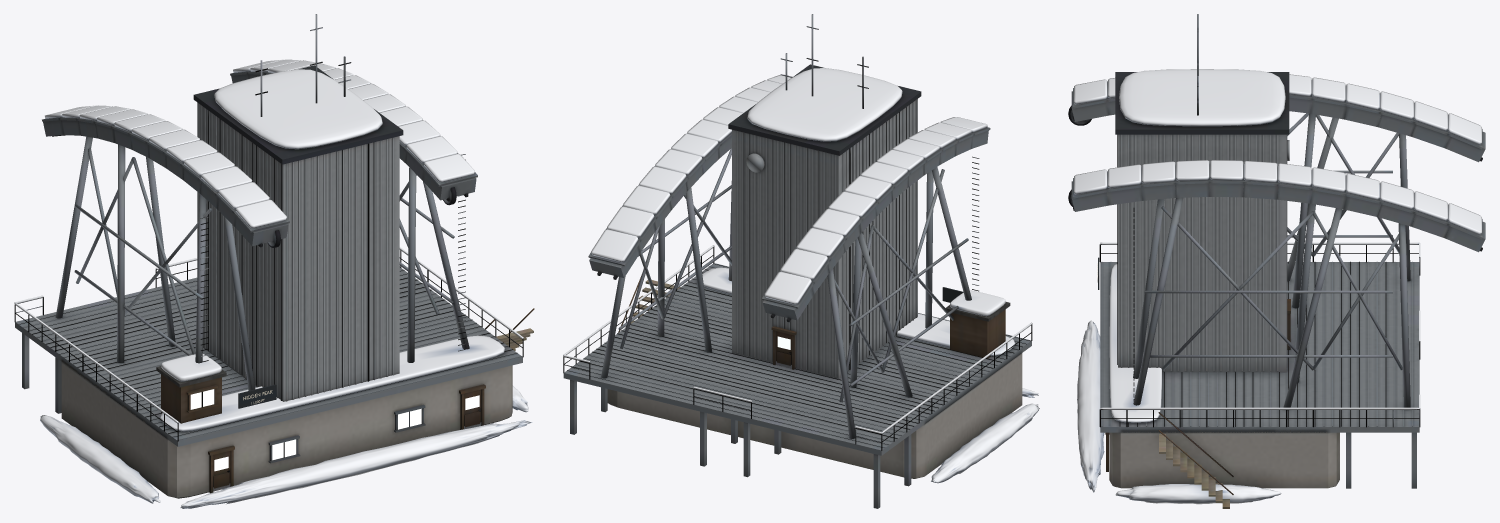
Rendered from tram_dock_top.glb.
3 renders of one model, left to right at view 1: azimuth 30°, elevation 25°; view 2: azimuth 150°, elevation 25°; view 3: azimuth 270°, elevation 25°, orthographic. The views are drawn at different scales.
Visible parts, largest first — view 1: tram_dock_top, tram_dock_top_snow, tram_dock_top_lit; view 2: tram_dock_top, tram_dock_top_snow; view 3: tram_dock_top, tram_dock_top_snow.
Part boxes in pixels (x1,y1,x2,y2): tram_dock_top: (14,14,534,498); tram_dock_top_snow: (14,59,532,508); tram_dock_top_lit: (190,389,479,471); tram_dock_top: (563,14,1032,508); tram_dock_top_snow: (563,68,1039,483); tram_dock_top: (1068,14,1485,508); tram_dock_top_snow: (1074,69,1481,504).
Size of the model in its own units: 26.25 by 25.31 by 23.51.
Materials: 4 (1 with a texture image).
